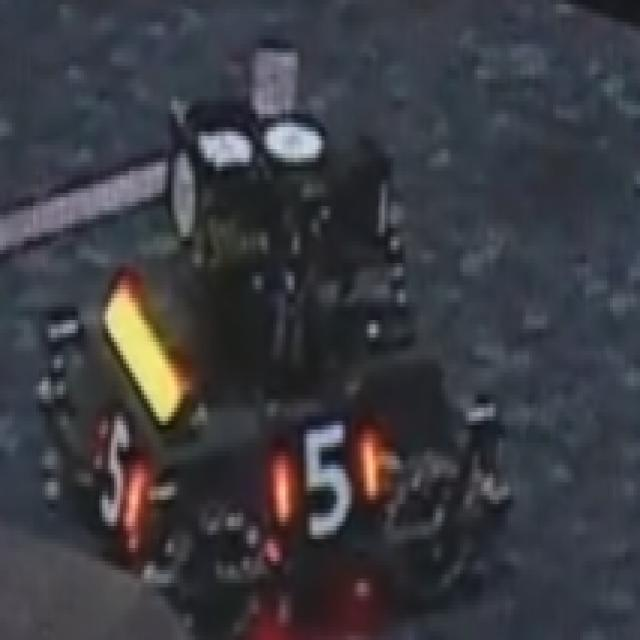R5: (270, 430, 376, 530), (93, 412, 138, 544)
